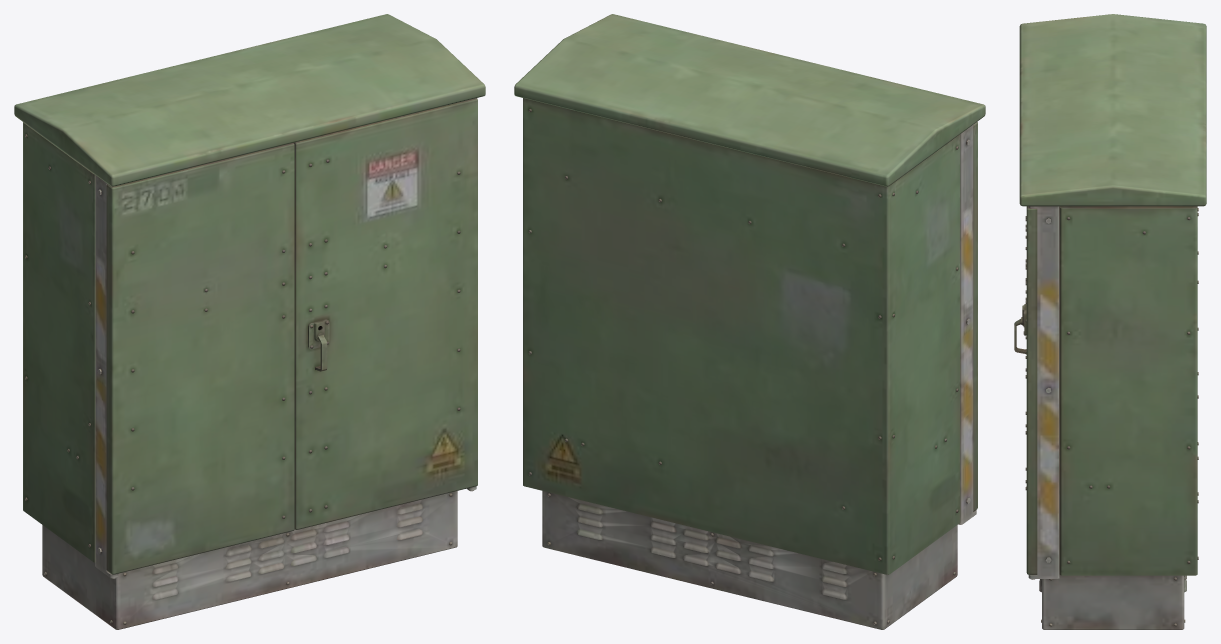
Rendered from utility_box_02.glb.
3 views of the same model, side by side, from view 1: azimuth 30°, elevation 25°; view 2: azimuth 150°, elevation 25°; view 3: azimuth 270°, elevation 25° (orthographic). The views are drawn at different scales.
Parts seen in each view (by area): view 1: utility_box_02; view 2: utility_box_02; view 3: utility_box_02.
Part boxes in pixels (x1,y1,x2,y2): utility_box_02: [14, 14, 485, 629]; utility_box_02: [514, 14, 985, 629]; utility_box_02: [1014, 14, 1206, 629].
Size of the model in its own units: 0.92 by 1.12 by 0.4319.
1 material, 1 textured.
